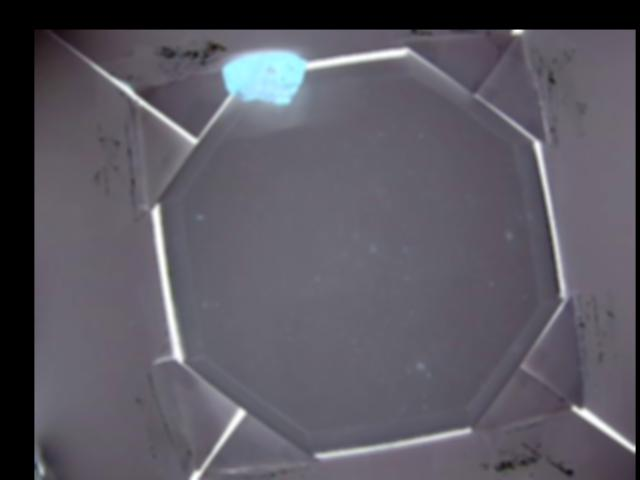Brisk: (222, 49, 309, 104)
